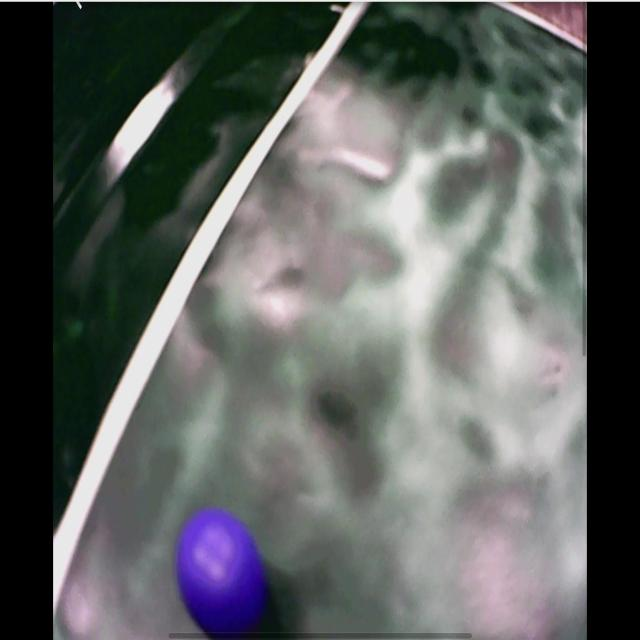ball: (177, 507, 264, 638)
